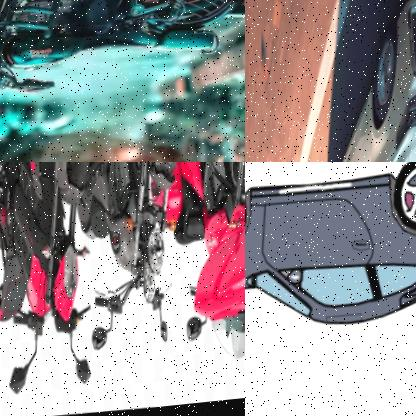bike: (0, 162, 101, 393), (80, 162, 191, 323), (178, 162, 245, 369)
car: (245, 162, 416, 346), (306, 0, 416, 162)
